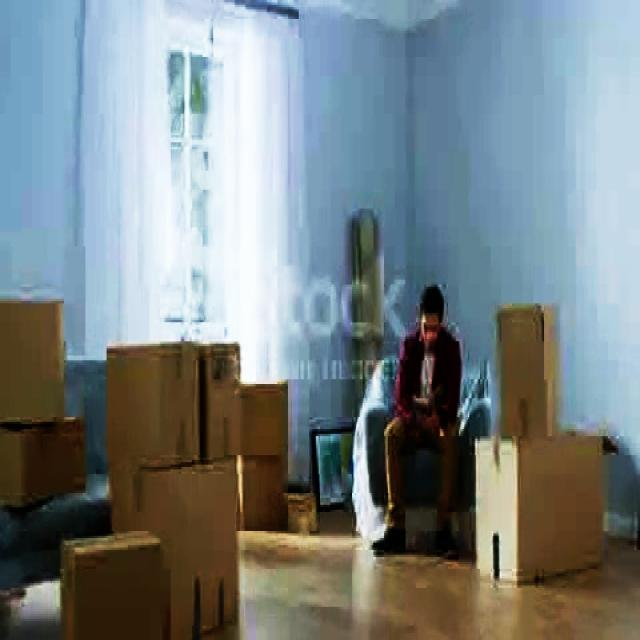Box: (483, 430, 607, 572), (107, 349, 202, 475), (63, 536, 167, 640), (170, 472, 242, 620), (498, 316, 559, 442), (3, 421, 87, 504), (3, 306, 63, 411), (203, 347, 247, 451)
